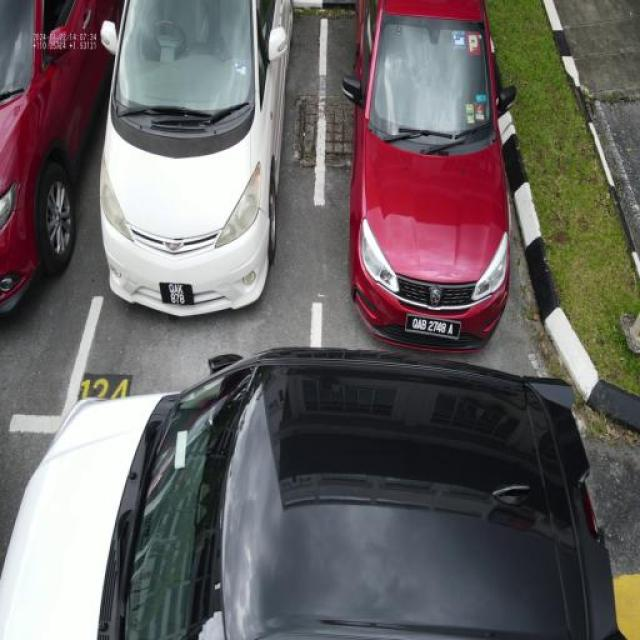Legalparking: (100, 0, 292, 315), (342, 0, 512, 349)
illegalparking: (0, 348, 624, 639)
